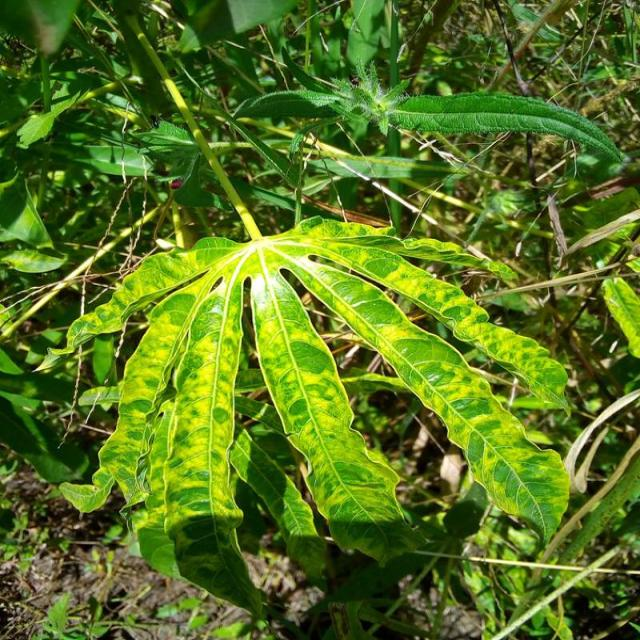cassava leaf: (60, 212, 572, 621)
